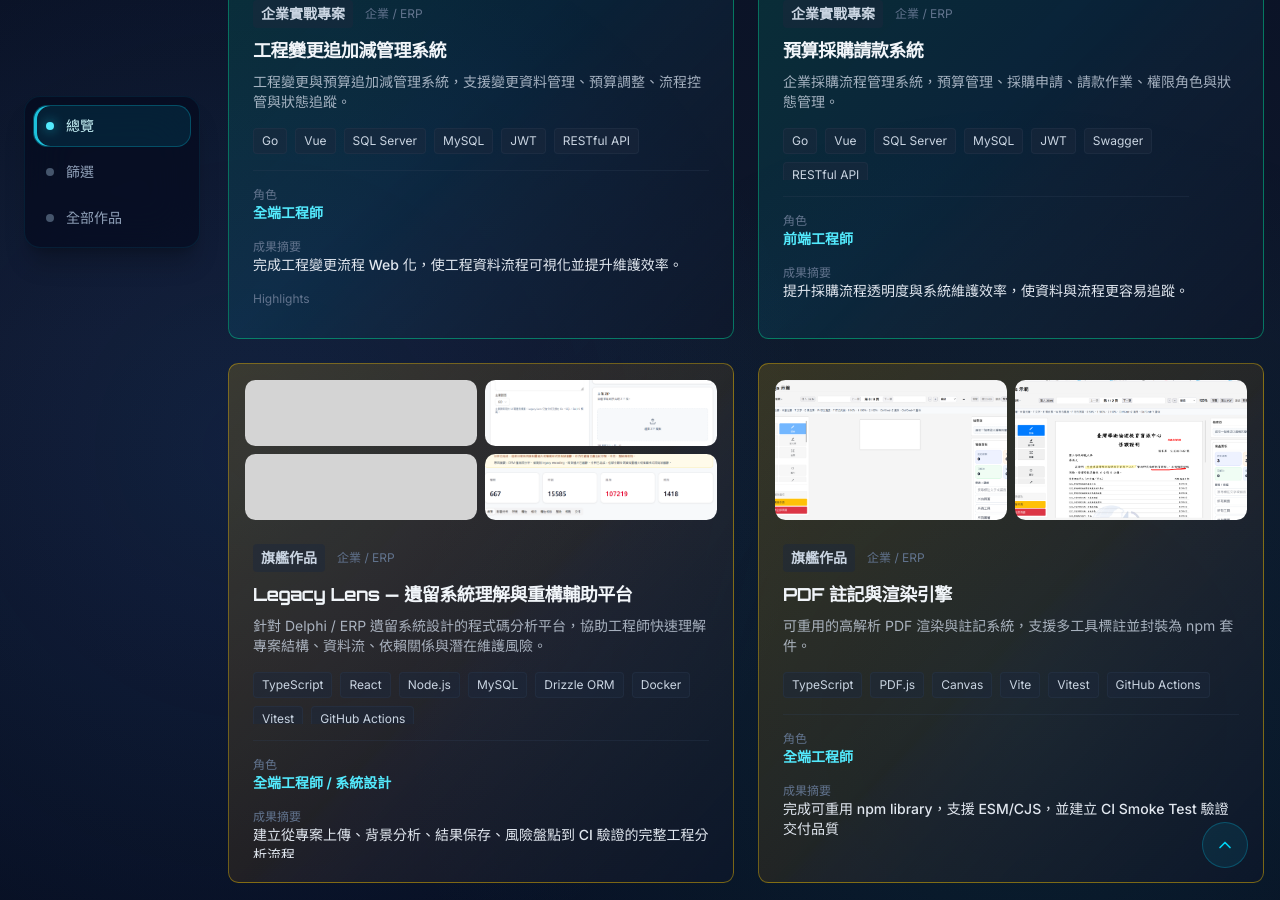
Test: ProjectsPage image gallery › opens and closes lightbox from a project card image
The width and height of the screenshot is (1280, 900).
(page scrolled)
Click the button named "Open image: PDF 註記與渲染引擎首頁畫面": (891, 450) 775,380 -> 1007,520
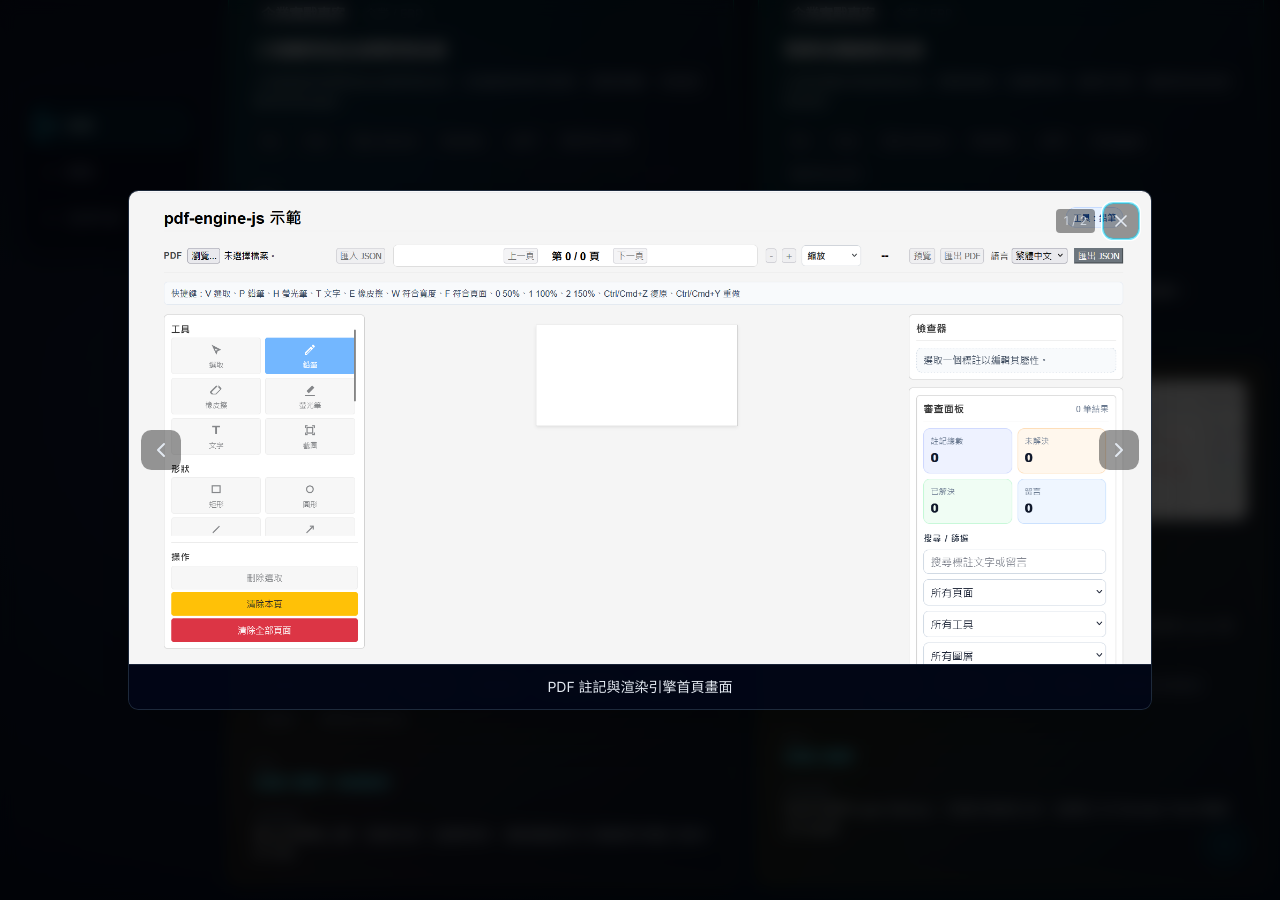
Check: the dialog named "lightbox" is shown, box 128,190 -> 1152,710
Press Escape
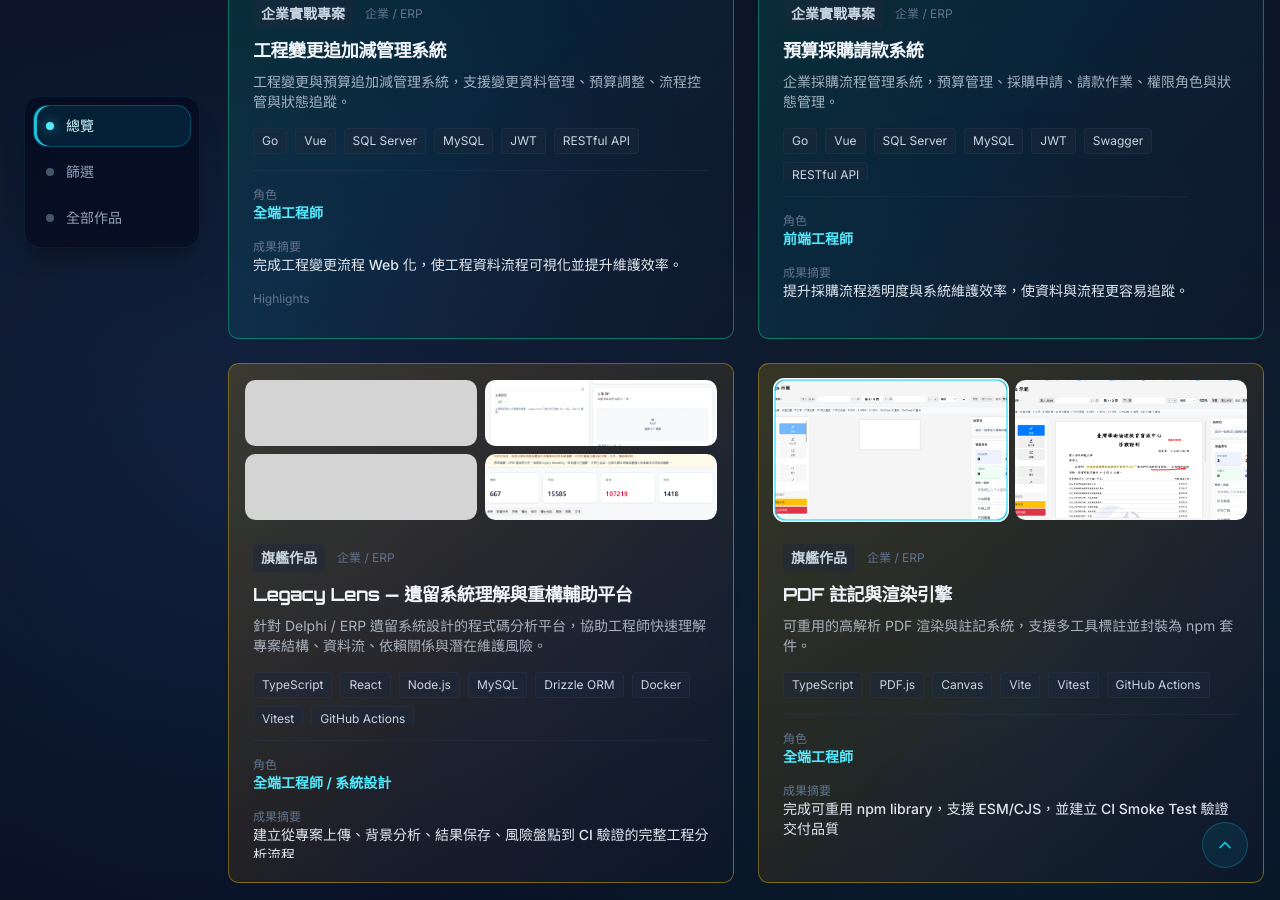
Check: the button "lightbox" is gone
Click the button named "Open image: PDF 註記與渲染引擎首頁畫面": (891, 450) 775,380 -> 1007,520
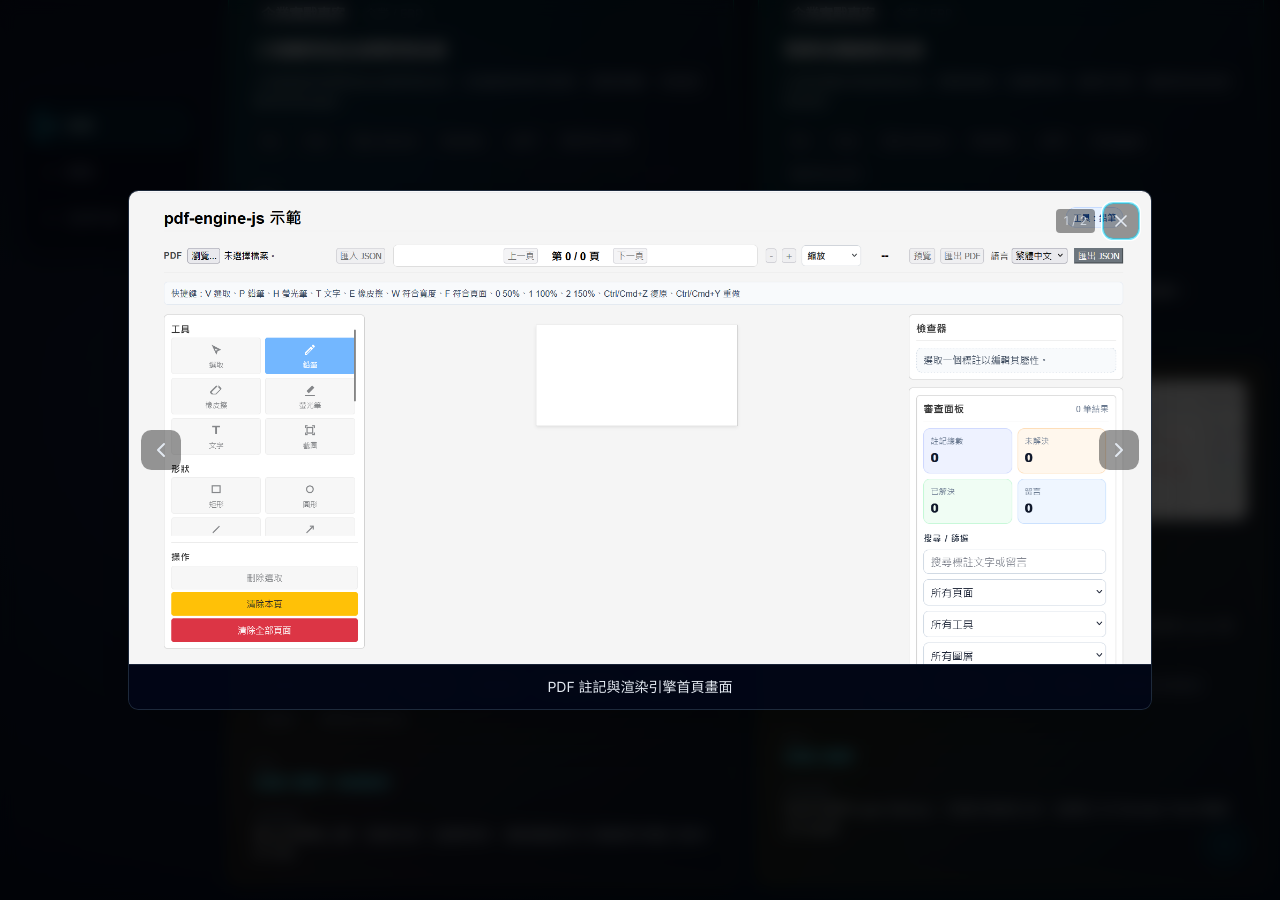
Check: the dialog named "lightbox" is shown, box 128,190 -> 1152,710
Click the button named "close lightbox": (1121, 221) 1103,203 -> 1139,239
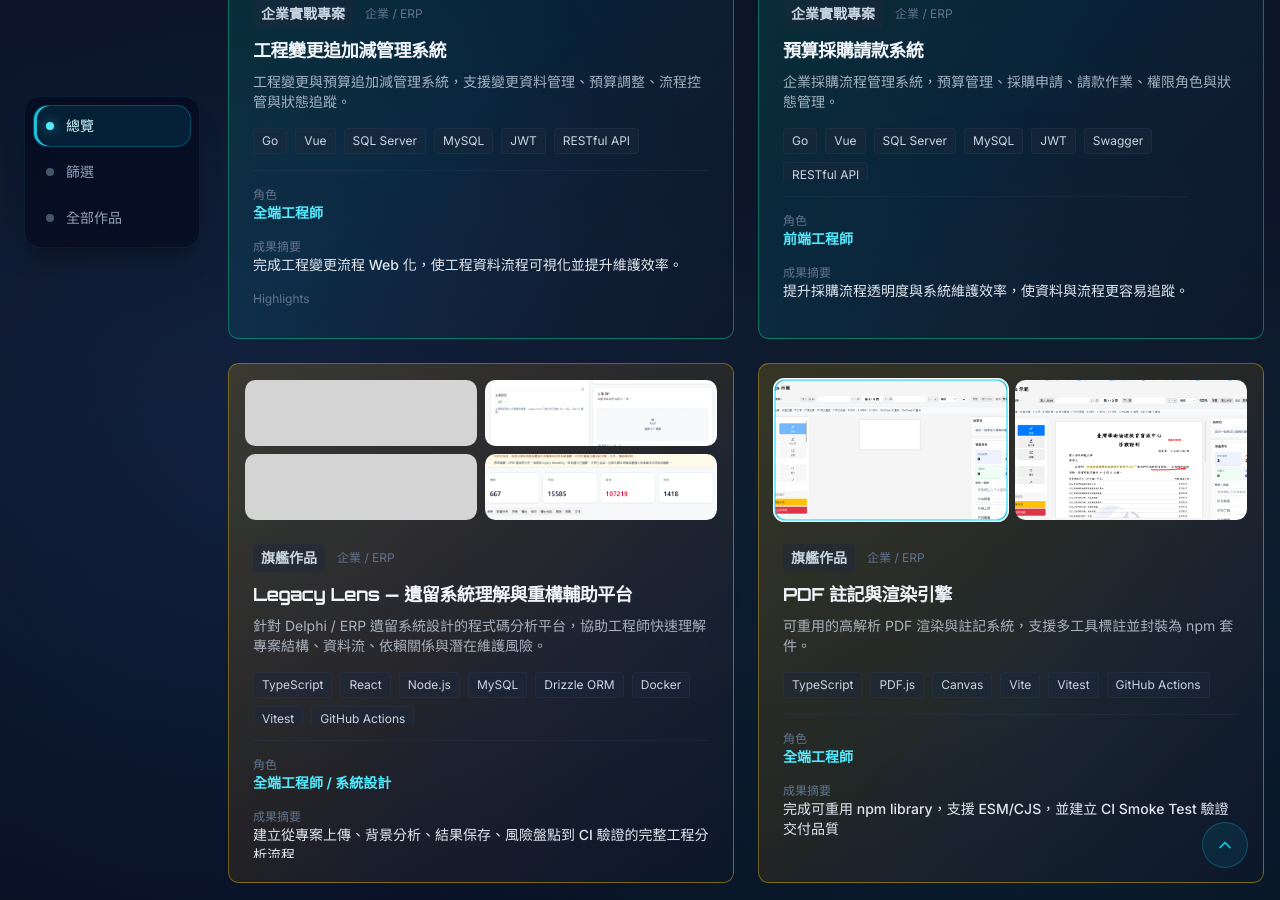
Check: the button "lightbox" is gone
